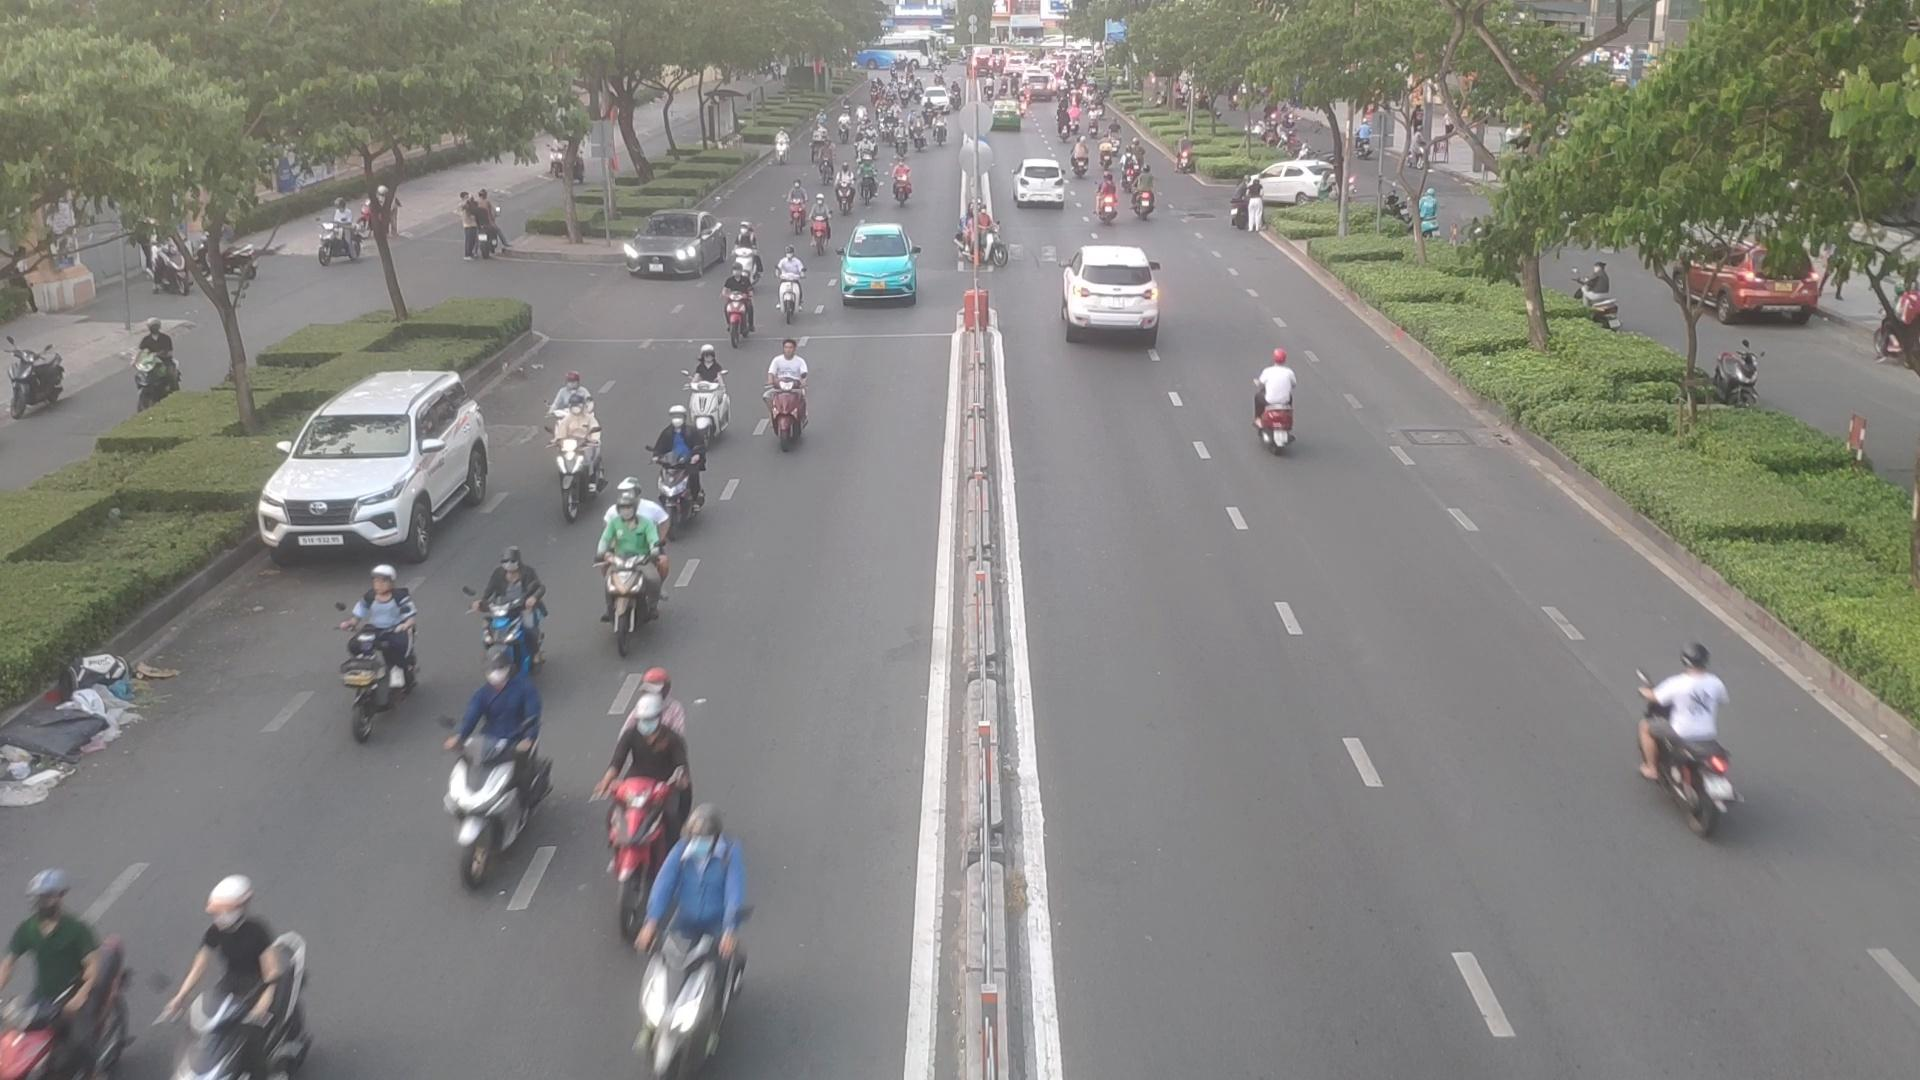car: (260, 371, 496, 568), (1068, 243, 1167, 335), (622, 214, 738, 281), (837, 223, 918, 309), (1244, 160, 1338, 212), (1013, 158, 1072, 208)
motorbike: (601, 818, 778, 1056), (427, 651, 560, 895), (0, 851, 135, 1080), (589, 663, 708, 895), (1610, 641, 1749, 828), (175, 862, 281, 1080), (338, 560, 413, 766), (480, 527, 560, 684), (601, 473, 680, 620), (543, 382, 621, 529), (651, 390, 713, 517), (767, 336, 823, 451), (1254, 336, 1302, 454), (686, 342, 729, 440), (538, 348, 579, 447), (959, 215, 1007, 265), (715, 265, 745, 340), (775, 251, 806, 315), (777, 173, 804, 239), (736, 223, 764, 285), (1133, 160, 1158, 218), (1097, 171, 1121, 229), (814, 187, 840, 237), (858, 160, 882, 207), (893, 158, 913, 206), (1120, 146, 1139, 193), (833, 156, 851, 204), (818, 144, 836, 182)
